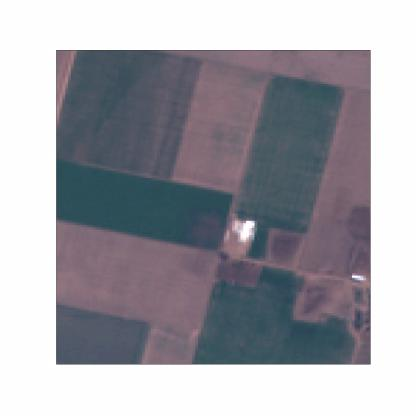silobolsa: (238, 215, 260, 248)
